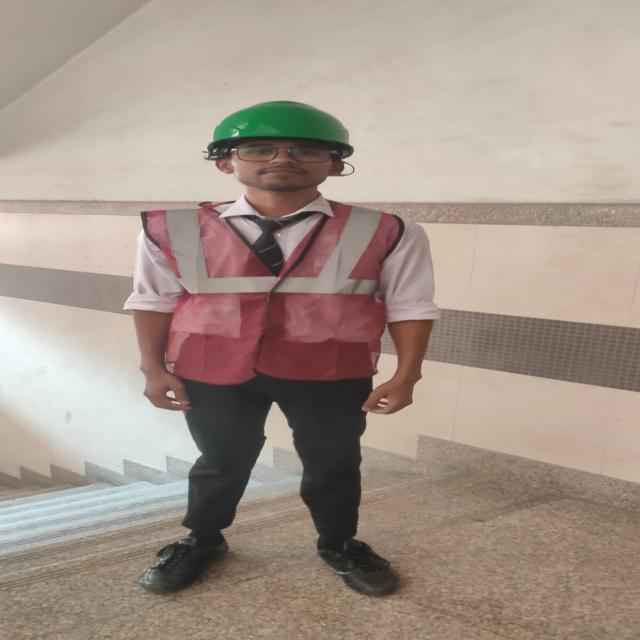safe: (138, 100, 428, 594)
